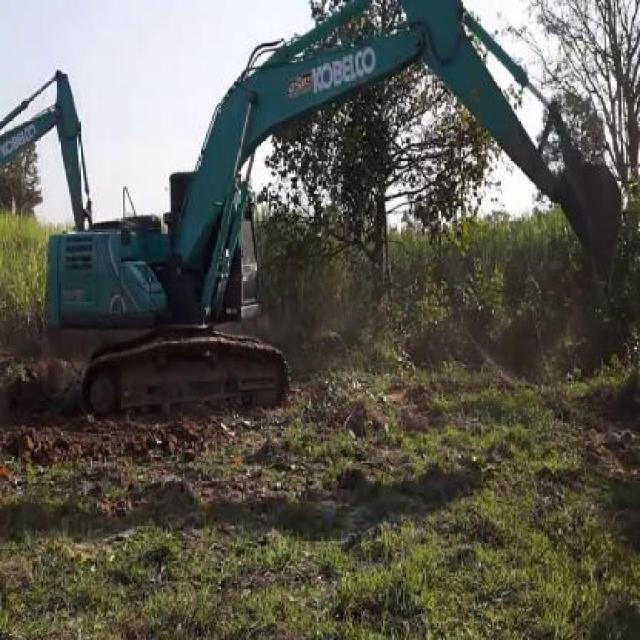excavator: (45, 0, 620, 418)
